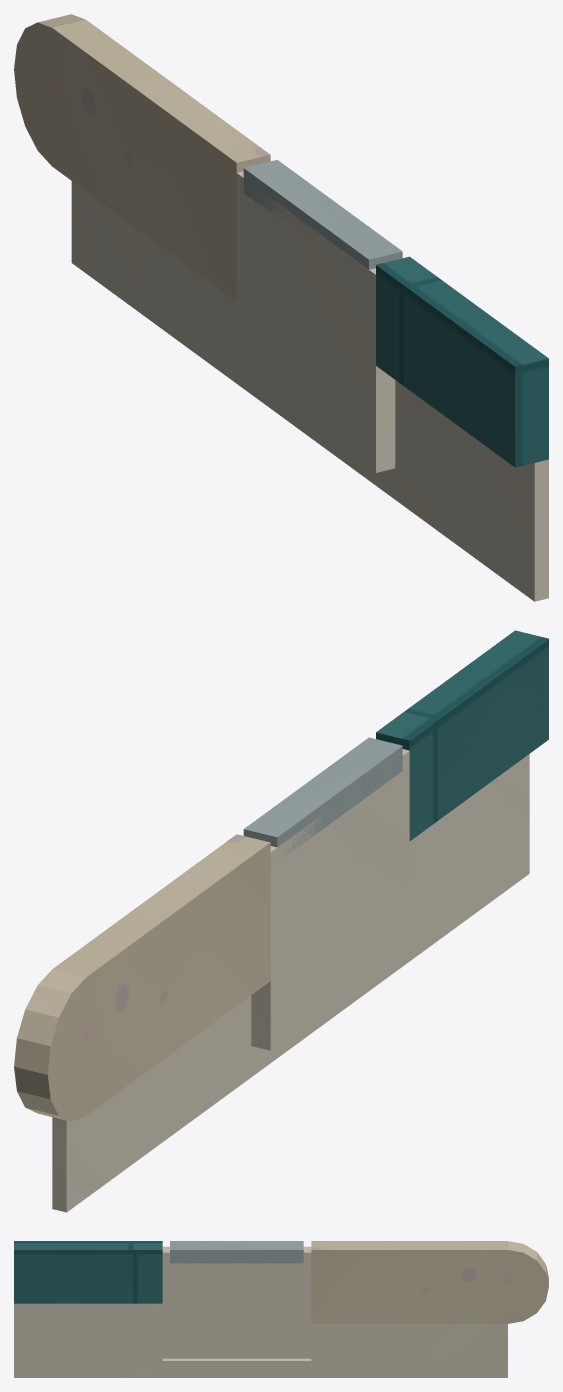
The model's file is AST-AQU-003_END.glb.
The picture shows the model from 3 angles, top to bottom: view 1: azimuth 30°, elevation 25°; view 2: azimuth 150°, elevation 25°; view 3: azimuth 270°, elevation 25°; orthographic projection. The views are drawn at different scales.
Parts seen in each view (by area): view 1: AST-AQU-003_END__ivory_enamel, AST-AQU-003_END__warm_stone, AST-AQU-003_END__aquatic_edge_tile, AST-AQU-003_END__aquatic_satin_alloy; view 2: AST-AQU-003_END__ivory_enamel, AST-AQU-003_END__warm_stone, AST-AQU-003_END__aquatic_edge_tile, AST-AQU-003_END__aquatic_satin_alloy; view 3: AST-AQU-003_END__ivory_enamel, AST-AQU-003_END__warm_stone, AST-AQU-003_END__aquatic_edge_tile, AST-AQU-003_END__aquatic_satin_alloy.
Part boxes in pixels (x1,y1,x2,y2): AST-AQU-003_END__ivory_enamel: (71,171,548,601); AST-AQU-003_END__warm_stone: (14,14,270,301); AST-AQU-003_END__aquatic_edge_tile: (376,256,548,467); AST-AQU-003_END__aquatic_satin_alloy: (243,160,402,269); AST-AQU-003_END__ivory_enamel: (52,749,529,1212); AST-AQU-003_END__warm_stone: (14,834,270,1121); AST-AQU-003_END__aquatic_edge_tile: (376,630,548,840); AST-AQU-003_END__aquatic_satin_alloy: (243,737,402,858); AST-AQU-003_END__ivory_enamel: (14,1246,507,1377); AST-AQU-003_END__warm_stone: (311,1241,548,1323); AST-AQU-003_END__aquatic_edge_tile: (14,1241,162,1303); AST-AQU-003_END__aquatic_satin_alloy: (170,1241,303,1263).
Size of the model in its own units: 0.028 by 0.19 by 0.72.
4 materials, 4 textured.
